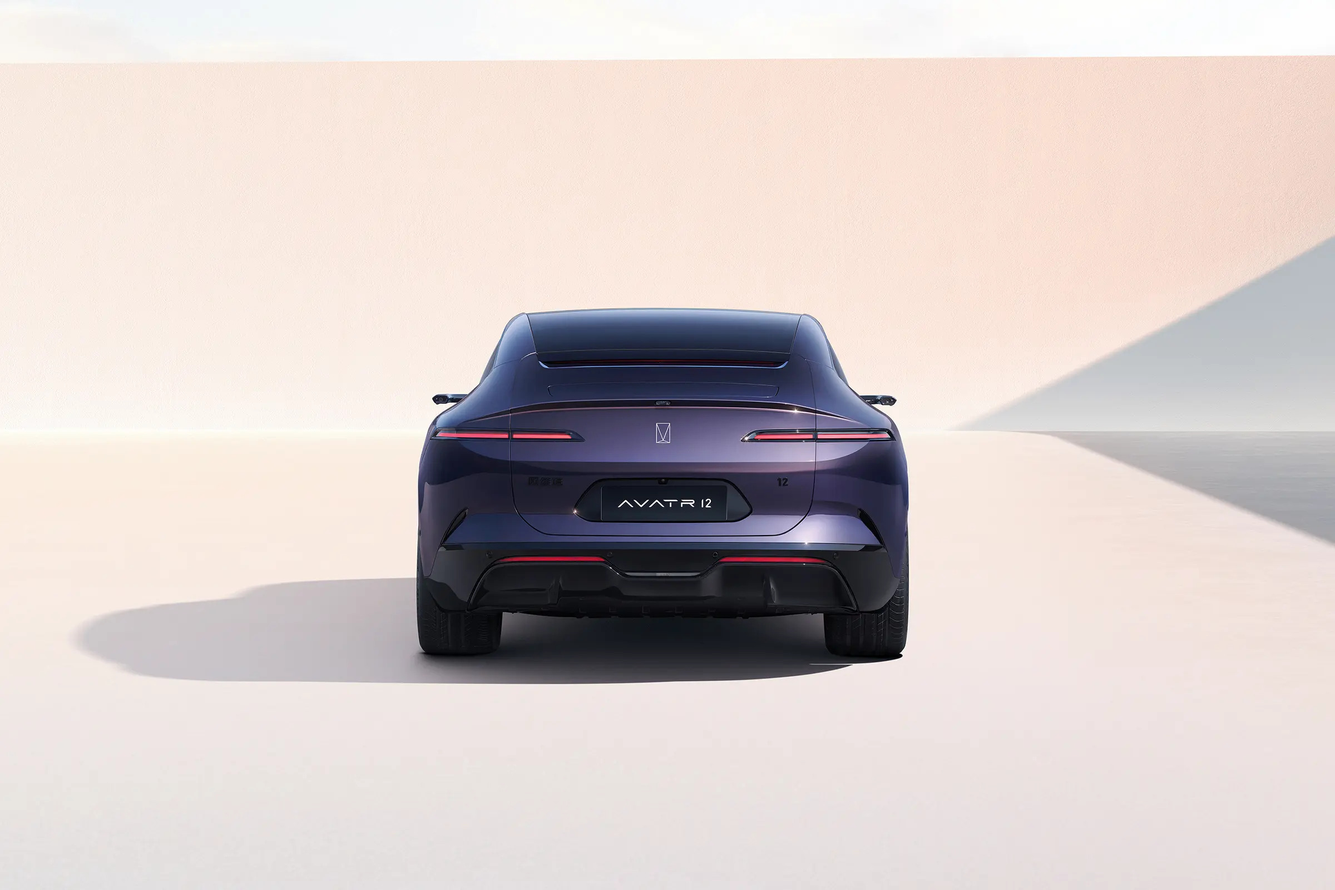AVATR: (656, 423, 670, 443)
